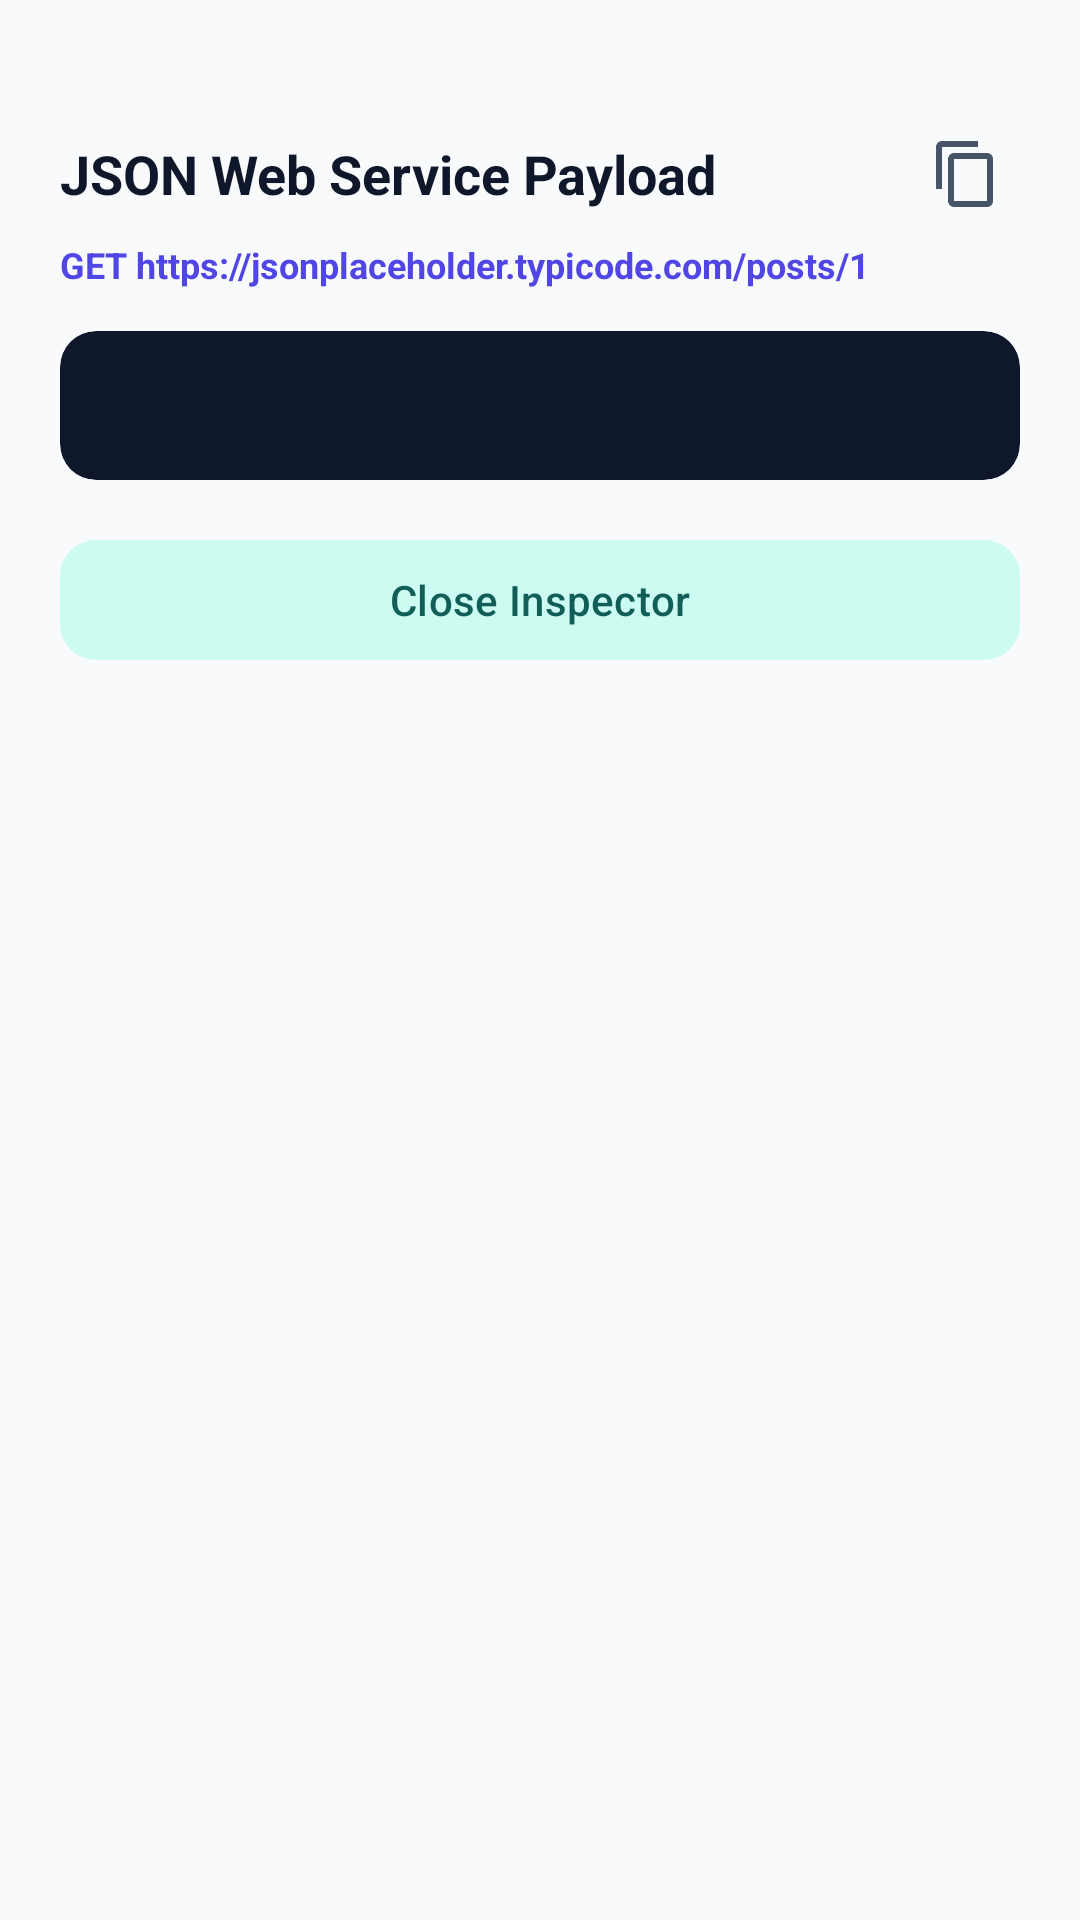

Icons on this 1080w x 1920h Android screen, each with its box as rect(x1, y1, x2, y2):
Copy JSON: rect(936, 141, 993, 207)
